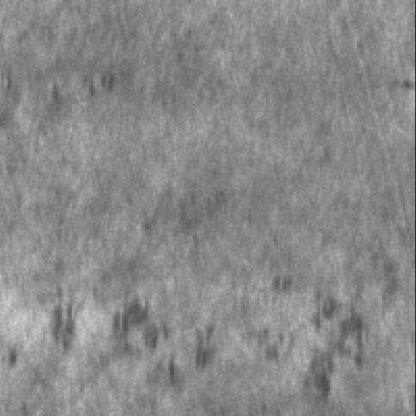rolled-in_scale: (44, 280, 366, 405), (23, 54, 123, 116)
